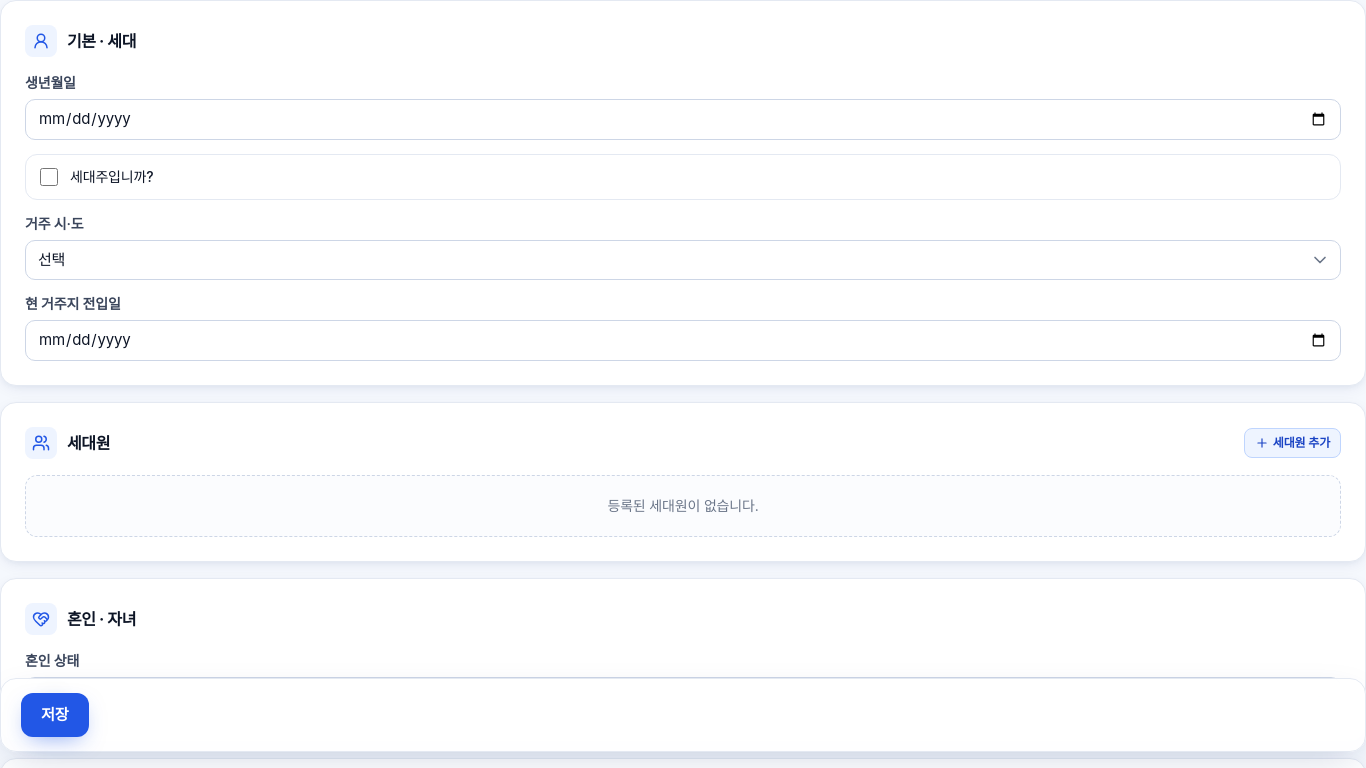
ProfileForm › 저장이 throw하면 실패 안내를 보여준다
Click the button "저장".
click(55, 715)  # box [21,693,89,737]
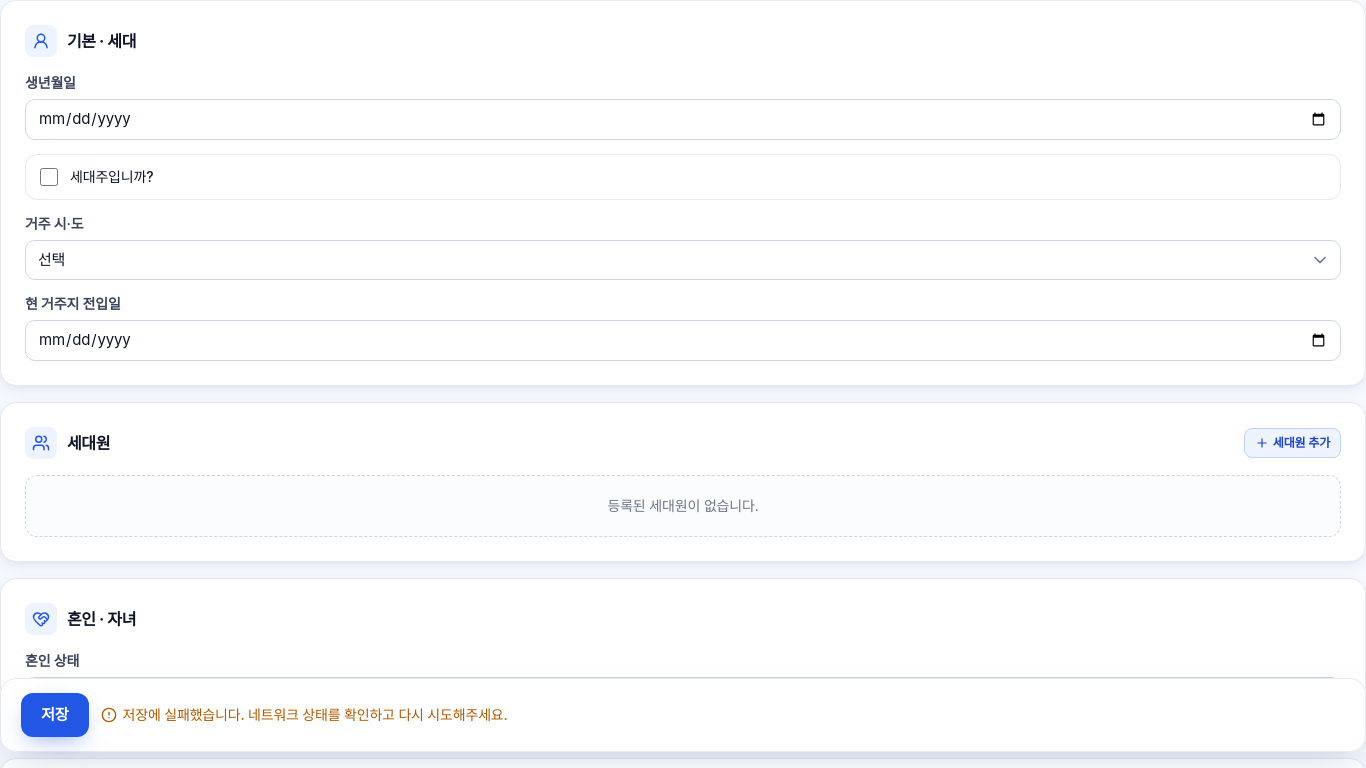
expect the text "저장에 실패했습니다. 네트워크 상태를 확인하고 다시 시도해주세요." is shown: met, box [101,705,508,725]
